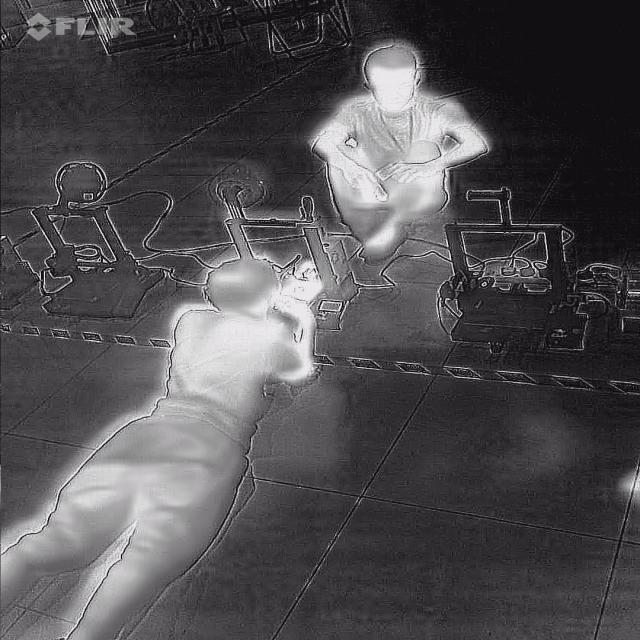Victim: (0, 252, 336, 640), (304, 34, 492, 259)
